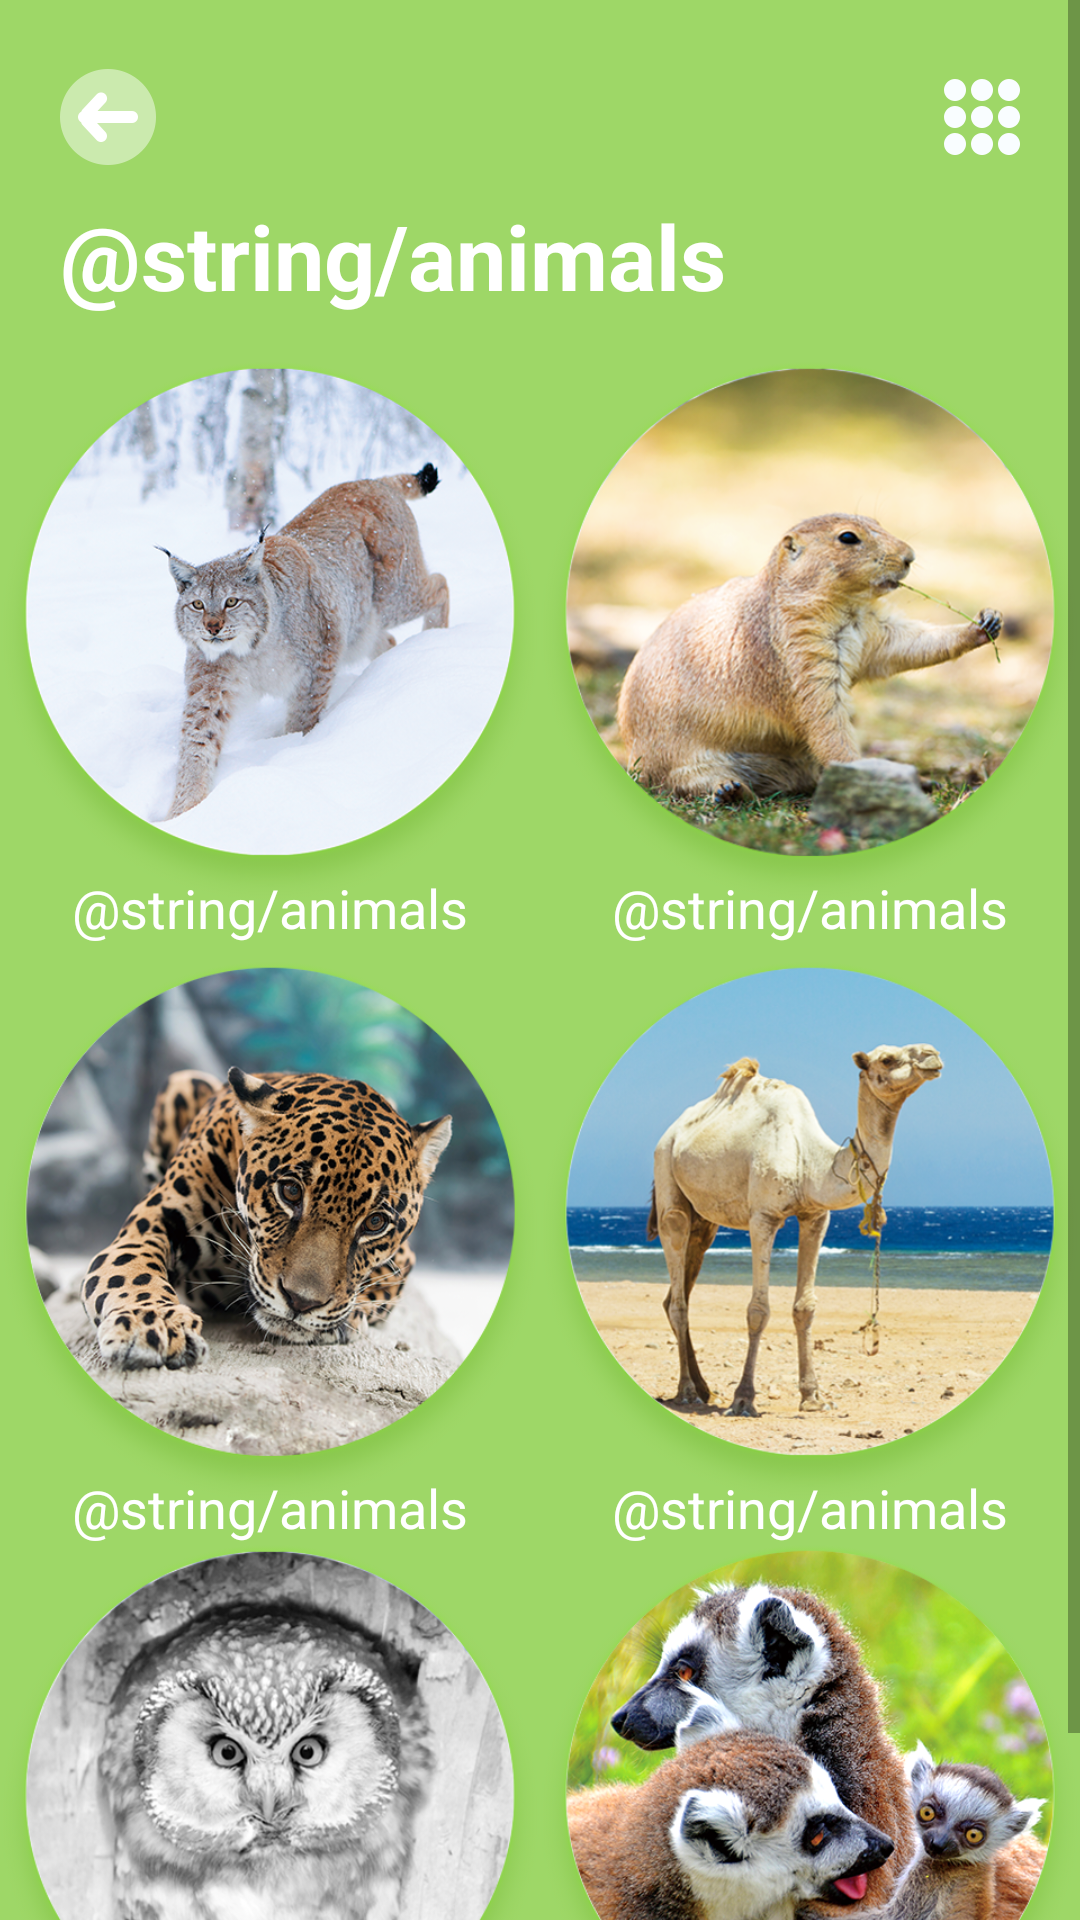

Where to tap for icons on this 1080 x 1920 app screen, as point (x, y):
goback: point (108, 117)
list smallpic: point (982, 117)
